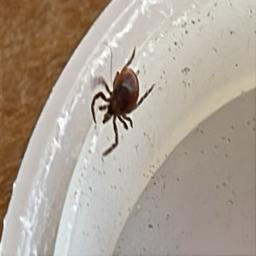Ixodes scapularis: (92, 45, 155, 157)
